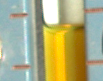border: (11, 63, 34, 71), (82, 7, 103, 15), (8, 12, 31, 19), (84, 58, 103, 66)
liquidlevel: (42, 21, 86, 34)
